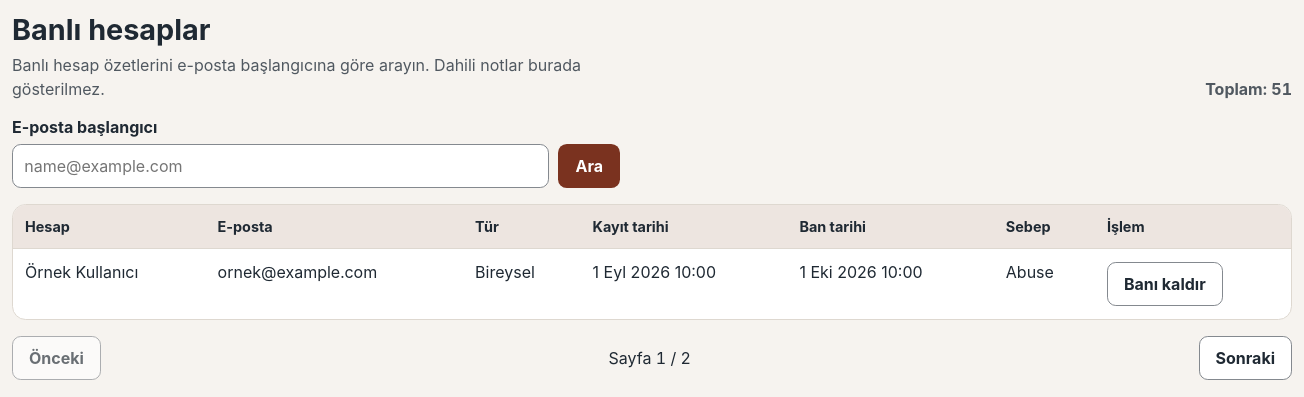
Test: Admin banned accounts › bounds previous and next page navigation to the available results
The width and height of the screenshot is (1304, 397).
expect the text "ornek@example.com" is shown: met, box [218, 262, 377, 282]
expect the button "Önceki" is disabled: met, box [12, 336, 101, 380]
Click the button "Sonraki" at (1245, 358), box [1198, 336, 1292, 380]
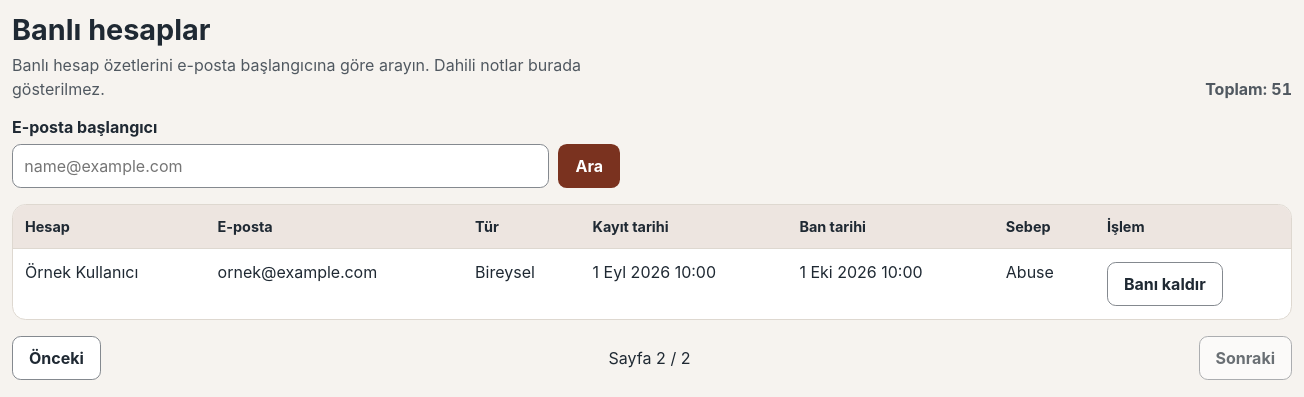
expect the text "Sayfa 2 / 2" is shown: met, box [608, 348, 691, 368]
expect the button "Sonraki" is disabled: met, box [1198, 336, 1292, 380]
